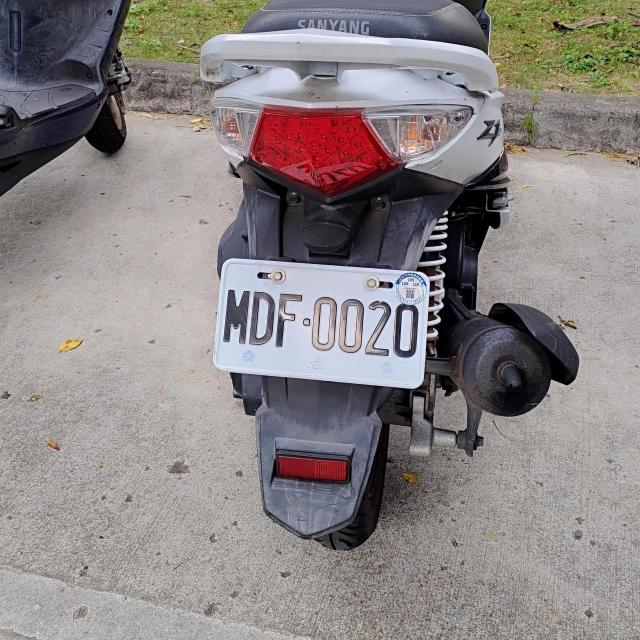W: (215, 261, 428, 385)
